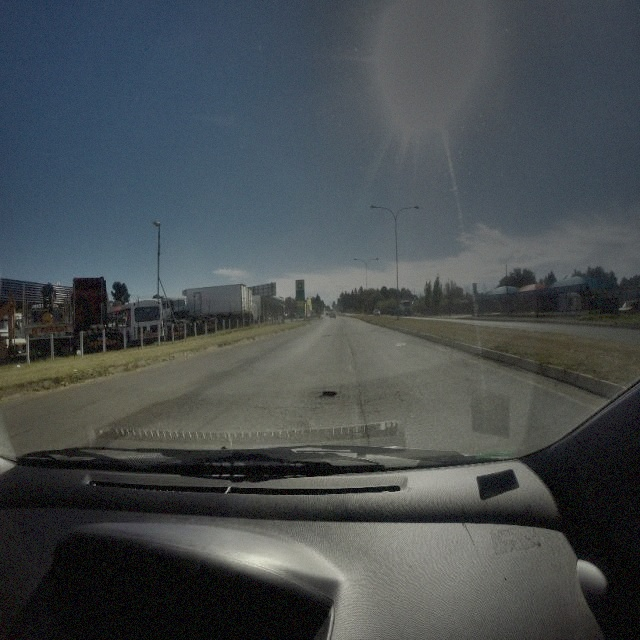pothole: (317, 387, 340, 401)
